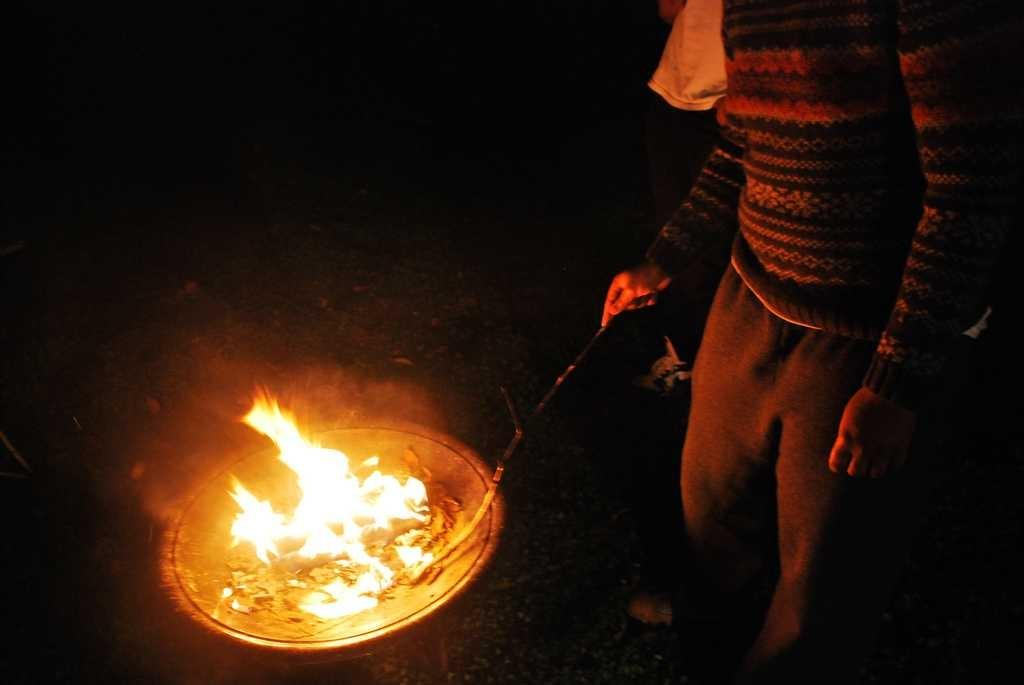fire: (300, 450, 347, 542), (250, 515, 282, 545)
